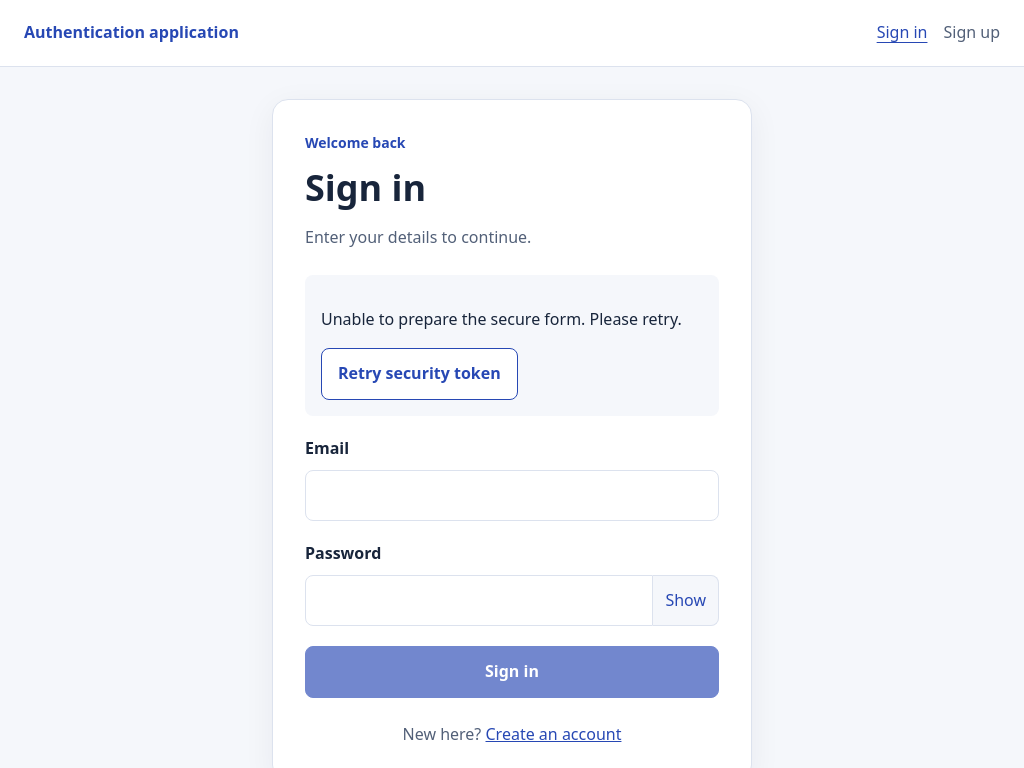
recovers from failed token acquisition before allowing a submission
The width and height of the screenshot is (1024, 768).
Expected: the message shows "Unable to prepare the secure form", left=321, top=308, right=682, bottom=330
Expected: the button "Sign in" is disabled, left=305, top=646, right=719, bottom=698
Click the button "Retry security token" at (419, 374), box left=321, top=348, right=518, bottom=400
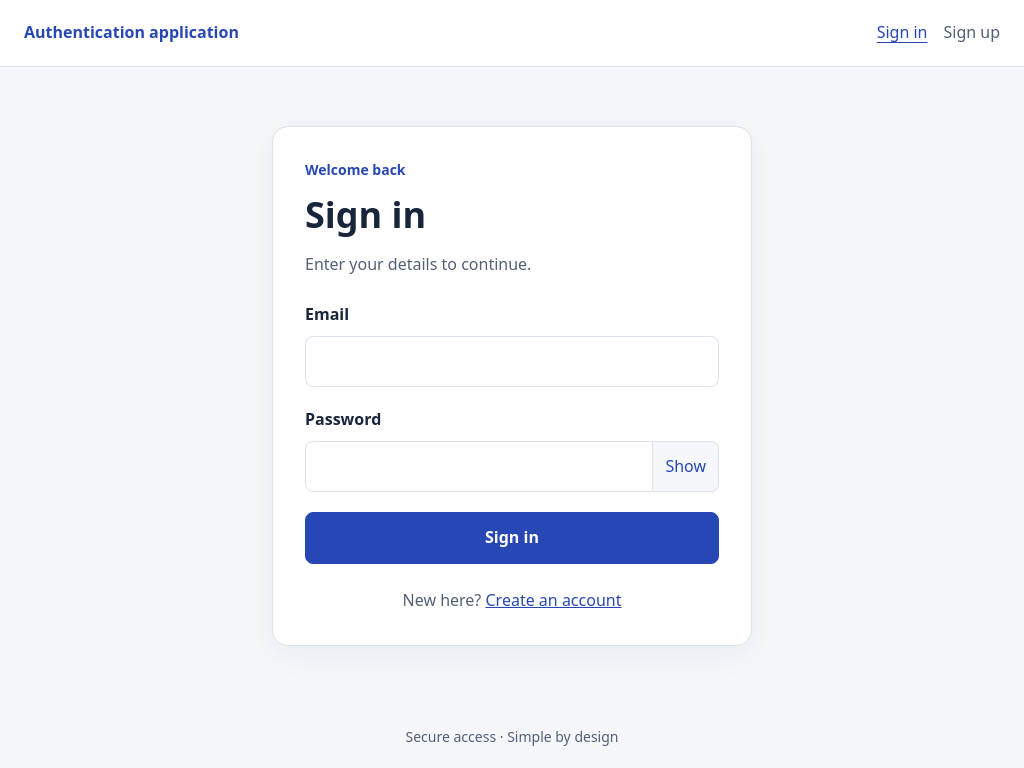
Expected: the button "Sign in" is enabled, left=305, top=512, right=719, bottom=564
